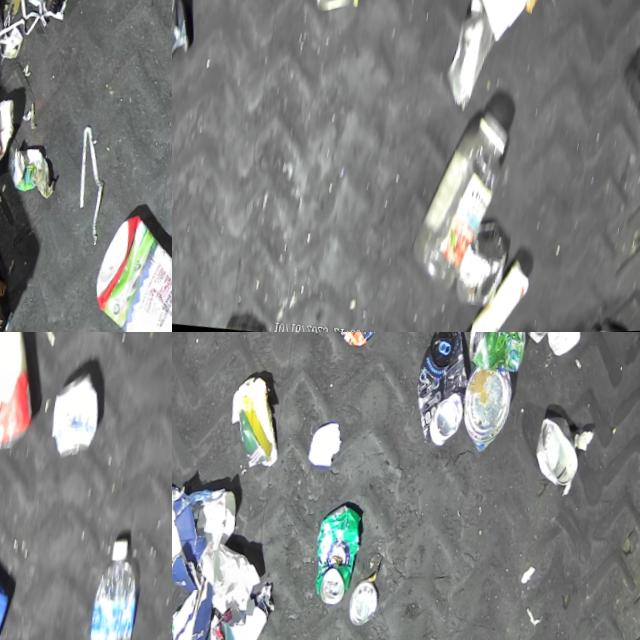can: (408, 332, 478, 453), (43, 361, 111, 478), (310, 504, 367, 612), (454, 219, 516, 318), (458, 369, 518, 460), (531, 418, 588, 498), (465, 332, 530, 379), (349, 581, 384, 631), (0, 95, 19, 185), (323, 332, 391, 353)
non_white_jug: (86, 210, 172, 332)
plastic_bottle: (408, 105, 515, 302), (83, 526, 159, 640)
